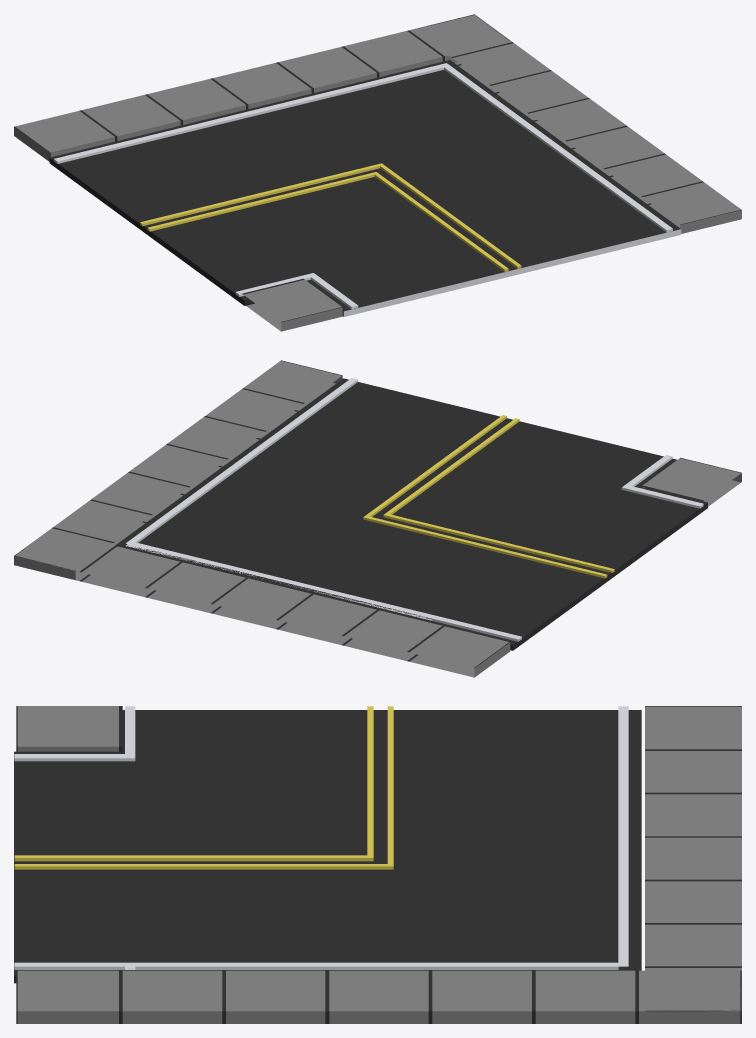
File: TurnRoad.fbx
The picture shows the model from 3 angles, top to bottom: view 1: azimuth 30°, elevation 25°; view 2: azimuth 150°, elevation 25°; view 3: azimuth 270°, elevation 25°; orthographic projection. The views are drawn at different scales.
Parts seen in each view (by area): view 1: Plane.008; view 2: Plane.008; view 3: Plane.008.
Boxes of the visible parts, left/top/right/bottom form: Plane.008: left=14, top=14, right=741, bottom=331; Plane.008: left=14, top=360, right=741, bottom=677; Plane.008: left=14, top=706, right=741, bottom=1023.
Size of the model in its own units: 1000 by 1003 by 19.17.
